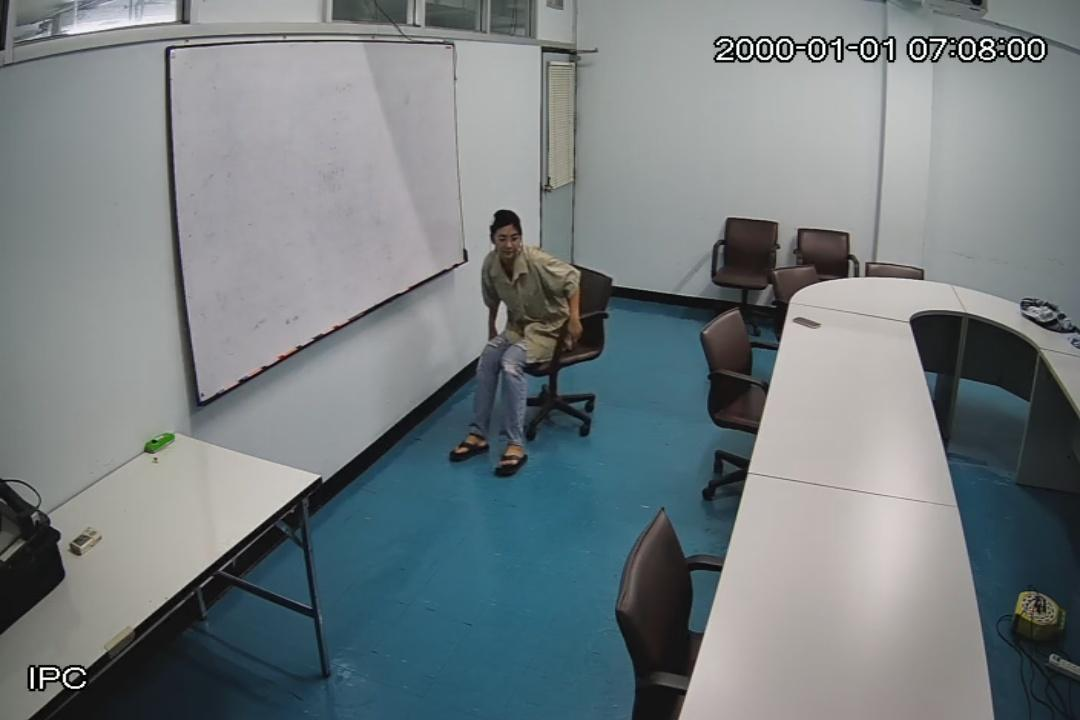normal: (448, 202, 574, 484)
